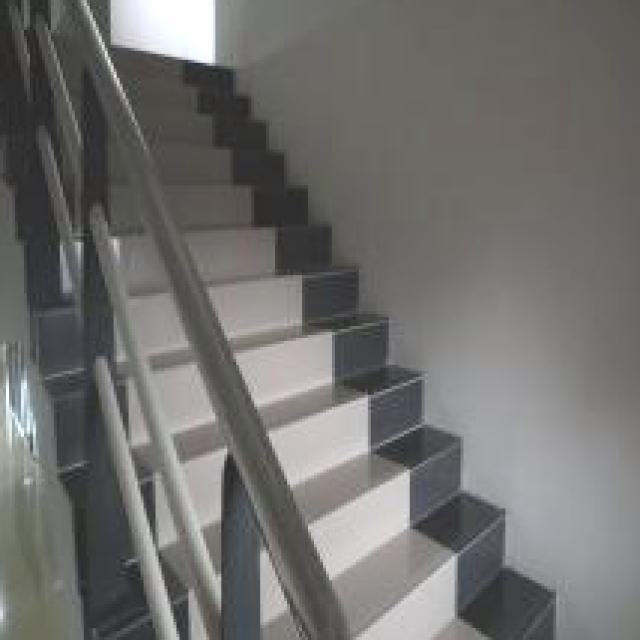upstair: (163, 22, 315, 267)
